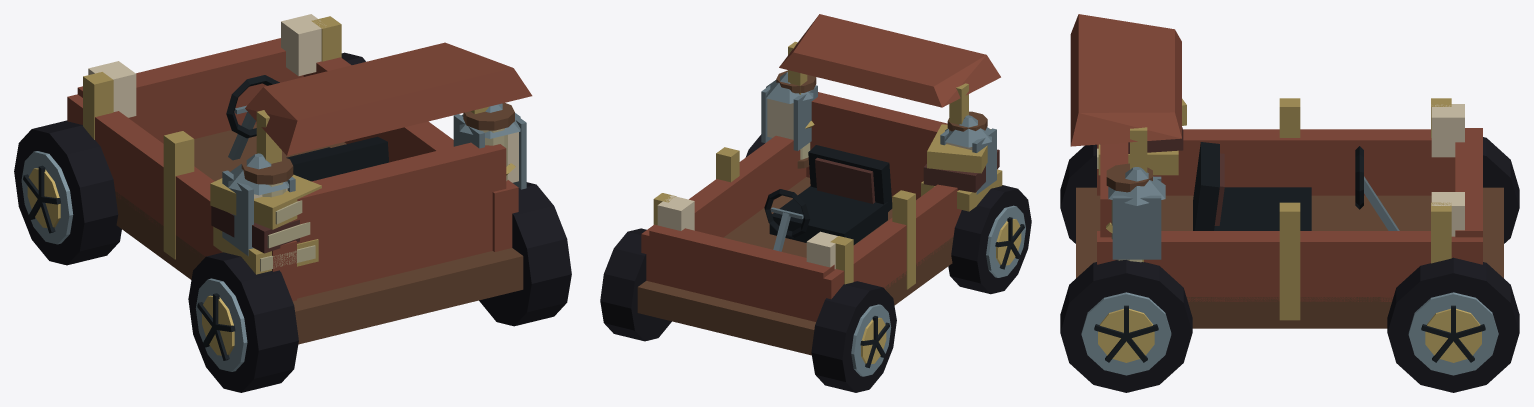
The model's file is kart.glb.
3 renders of one model, left to right at view 1: azimuth 30°, elevation 25°; view 2: azimuth 150°, elevation 25°; view 3: azimuth 270°, elevation 25°, orthographic. The views are drawn at different scales.
Visible parts, largest first — view 1: identity-carriage-carriage-timber-coach, wheel-rear-left, wheel-front-left, wheel-rear-right, identity-carriage-motif-books, identity-carriage-motif-lanterns, identity-carriage-driver-cockpit, identity-carriage-motif-scrolls; view 2: identity-carriage-carriage-timber-coach, identity-carriage-driver-cockpit, wheel-front-left, wheel-rear-left, identity-carriage-motif-lanterns, wheel-front-right, identity-carriage-motif-books, identity-carriage-motif-scrolls; view 3: identity-carriage-carriage-timber-coach, wheel-front-right, wheel-rear-right, identity-carriage-driver-cockpit, identity-carriage-motif-lanterns, wheel-front-left, wheel-rear-left, identity-carriage-motif-books, identity-carriage-motif-scrolls.
Part boxes in pixels (x1,y1,x2,y2): identity-carriage-carriage-timber-coach: [67, 14, 532, 344]; wheel-rear-left: [188, 252, 298, 392]; wheel-front-left: [14, 120, 121, 265]; wheel-rear-right: [479, 182, 571, 326]; identity-carriage-motif-books: [210, 174, 321, 274]; identity-carriage-motif-lanterns: [222, 103, 526, 256]; identity-carriage-driver-cockpit: [226, 75, 388, 181]; identity-carriage-motif-scrolls: [241, 103, 515, 197]; identity-carriage-carriage-timber-coach: [637, 14, 1000, 355]; identity-carriage-driver-cockpit: [764, 145, 892, 251]; wheel-front-left: [811, 281, 896, 392]; wheel-rear-left: [948, 185, 1031, 294]; identity-carriage-motif-lanterns: [761, 72, 996, 194]; wheel-front-right: [600, 228, 671, 341]; identity-carriage-motif-books: [921, 124, 1002, 211]; identity-carriage-motif-scrolls: [776, 70, 987, 168]; identity-carriage-carriage-timber-coach: [1070, 14, 1503, 328]; wheel-front-right: [1387, 257, 1519, 392]; wheel-rear-right: [1060, 260, 1192, 392]; identity-carriage-driver-cockpit: [1193, 142, 1399, 230]; identity-carriage-motif-lanterns: [1108, 167, 1165, 259]; wheel-front-left: [1483, 137, 1519, 243]; wheel-rear-left: [1060, 144, 1096, 243]; identity-carriage-motif-books: [1097, 98, 1186, 175]; identity-carriage-motif-scrolls: [1106, 163, 1152, 262].
Size of the model in its own units: 2.07 by 1.63 by 2.64.
